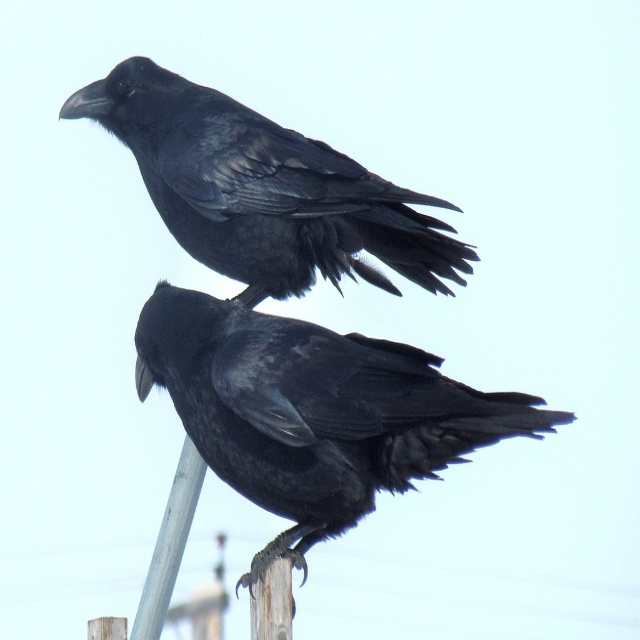Raven: (134, 276, 579, 621), (59, 56, 481, 308)
